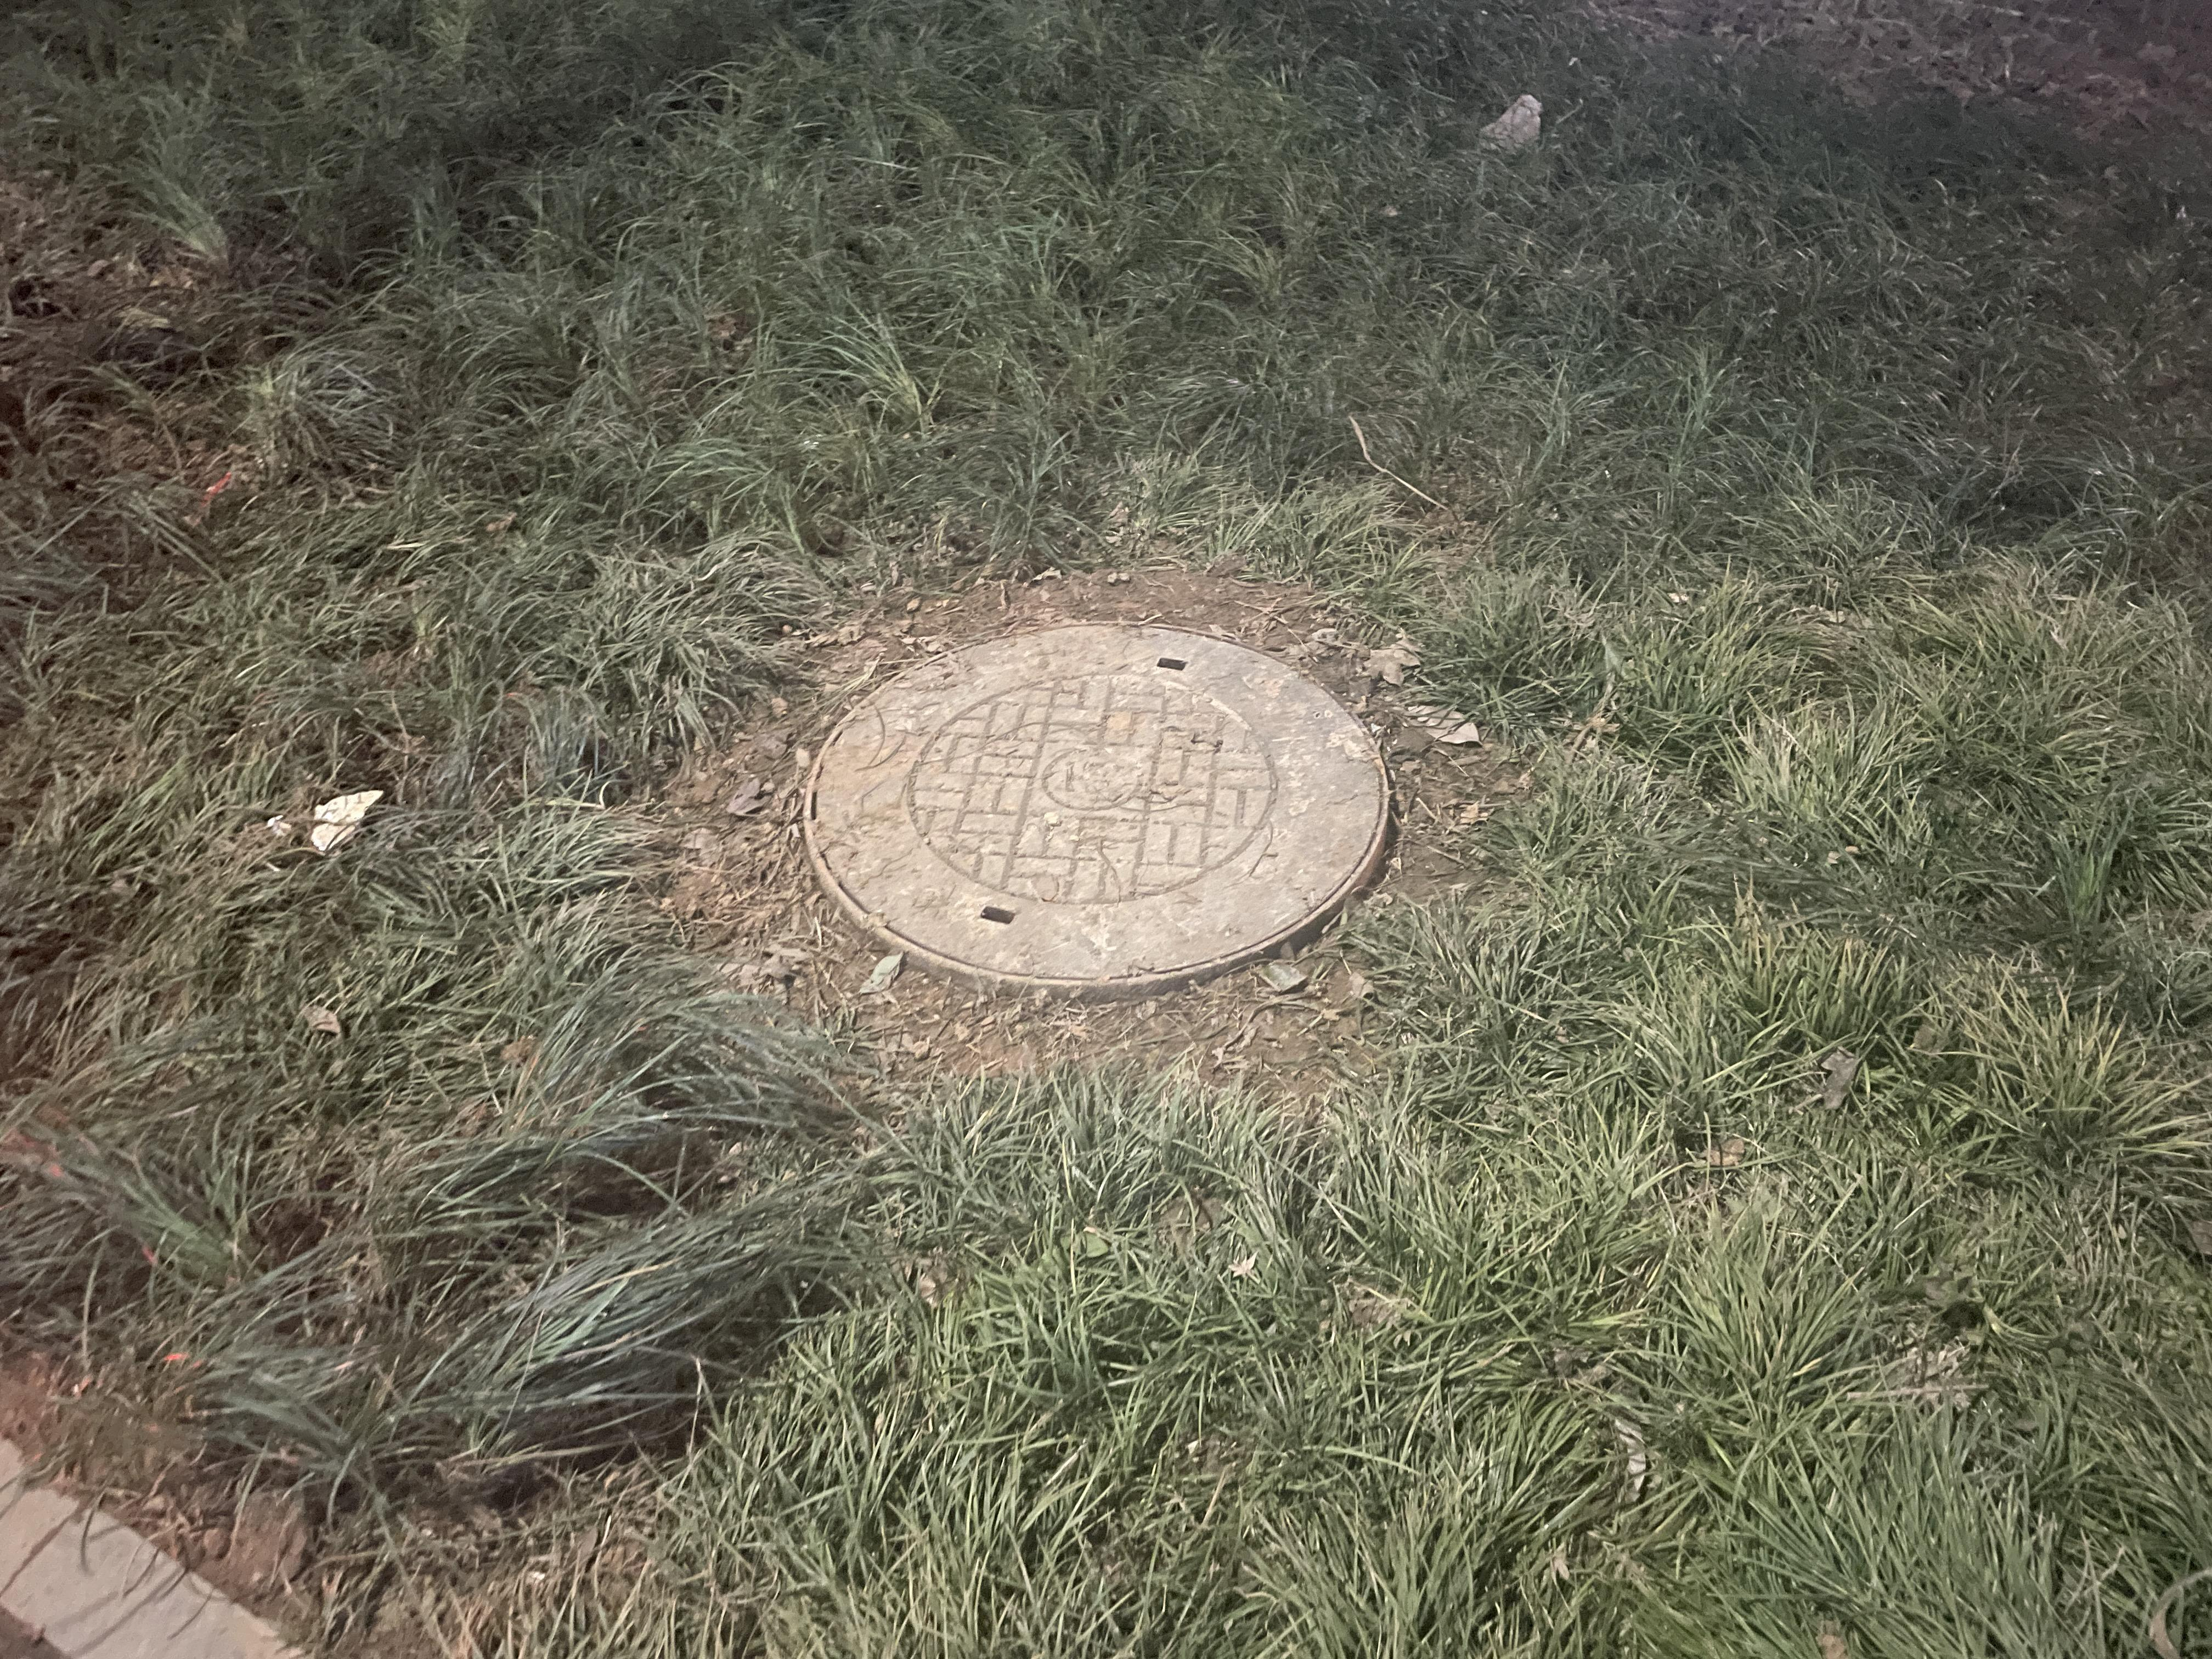wellcover: (782, 606, 1449, 1018)
